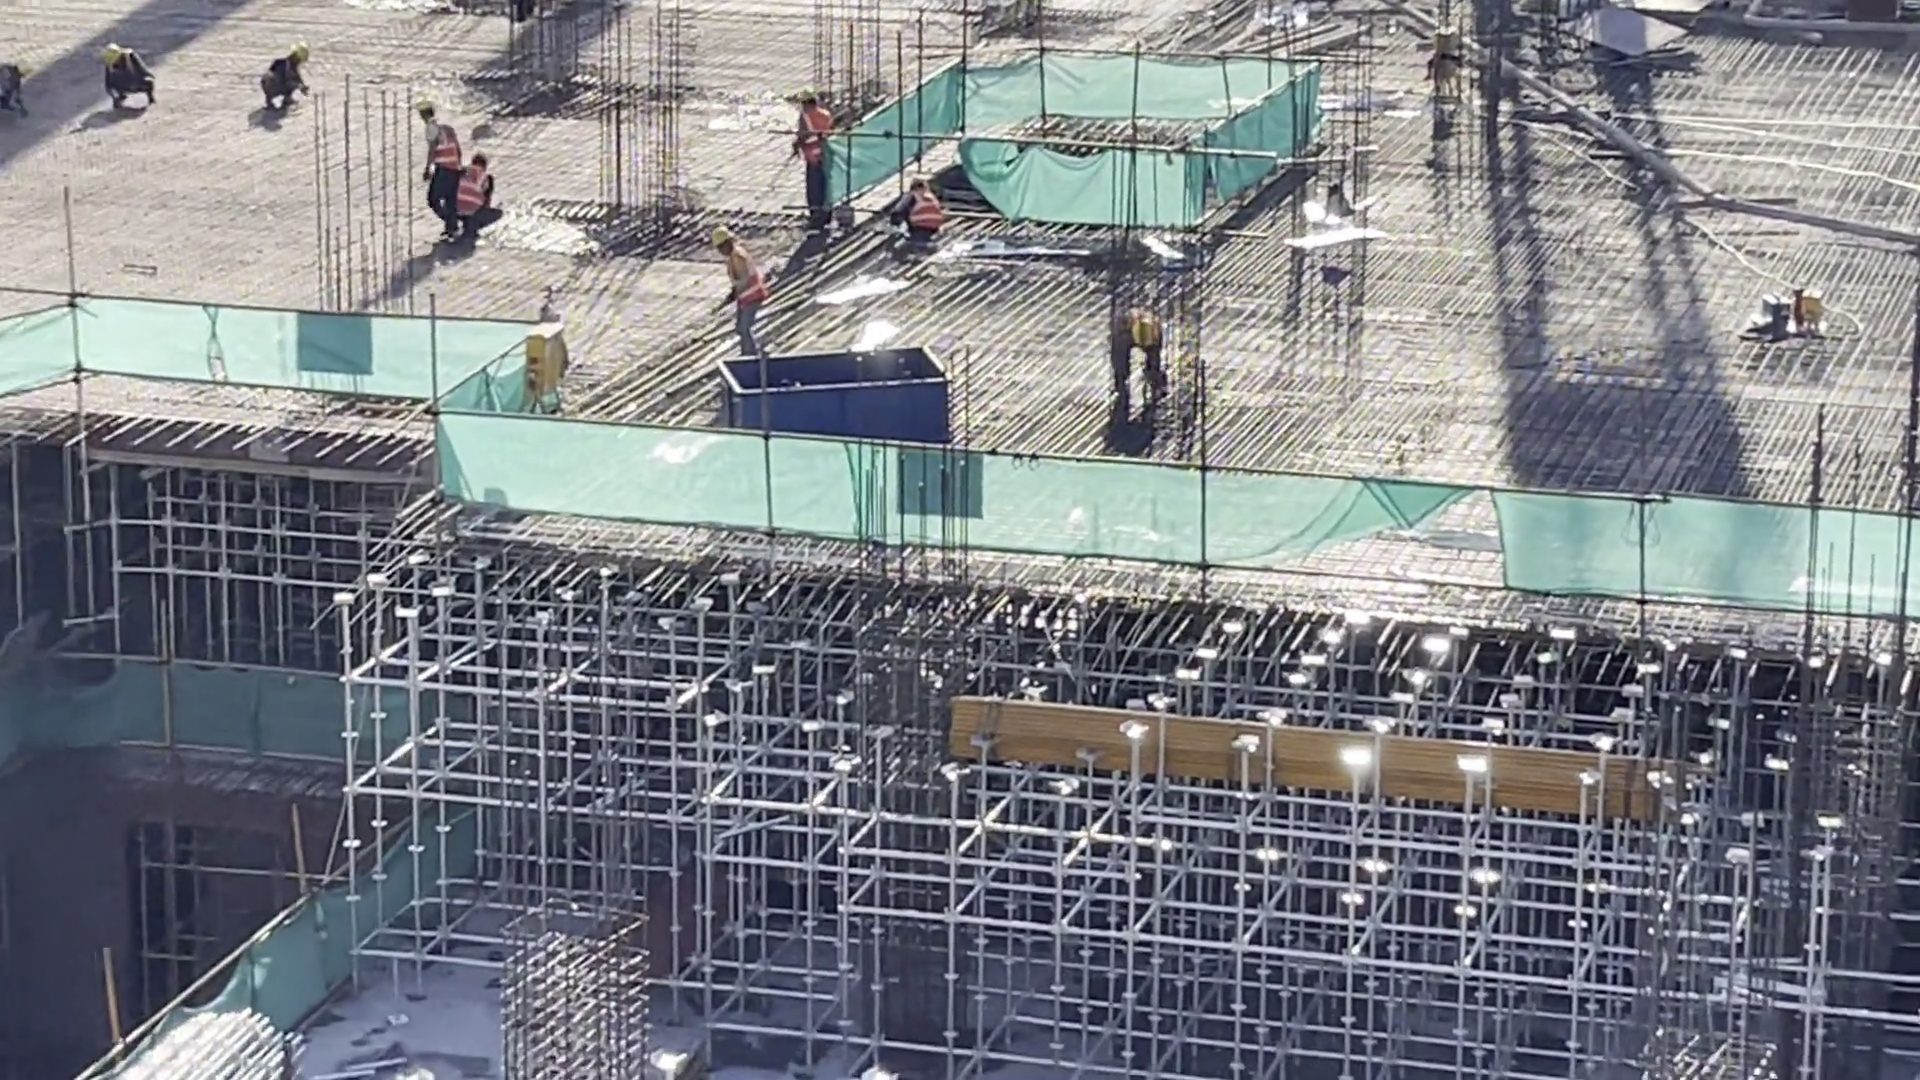helmet: (1133, 306, 1167, 356), (93, 37, 128, 60), (408, 93, 434, 117), (711, 222, 732, 248), (295, 38, 318, 61), (797, 91, 822, 108), (904, 176, 926, 191), (480, 143, 495, 161)
person: (701, 223, 775, 364), (84, 37, 181, 126), (791, 90, 844, 219), (1104, 305, 1175, 395), (264, 49, 344, 117), (410, 90, 455, 200), (903, 171, 947, 253), (455, 153, 493, 239)
vest: (728, 250, 761, 297), (263, 55, 300, 93), (805, 111, 832, 163), (913, 194, 941, 237), (437, 115, 457, 170), (461, 169, 480, 215)
